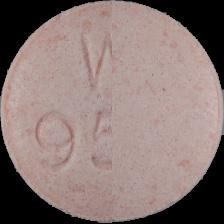64679-953: (0, 0, 224, 224)
